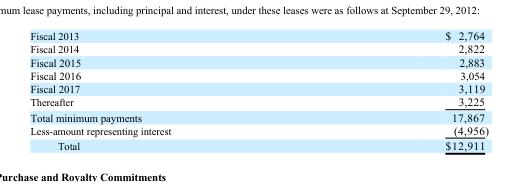table: (29, 28, 487, 151)
table column: (29, 28, 307, 151), (307, 28, 487, 151)
table row: (29, 94, 487, 109), (29, 41, 487, 55), (29, 109, 487, 123), (29, 123, 487, 137), (29, 137, 487, 151), (29, 28, 487, 41), (29, 55, 487, 68), (29, 68, 487, 81), (29, 81, 487, 94)
